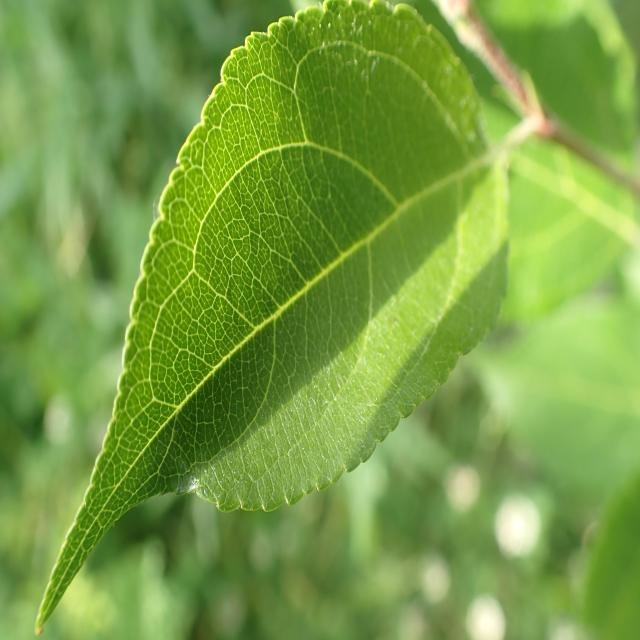healthy: (35, 2, 509, 636)
